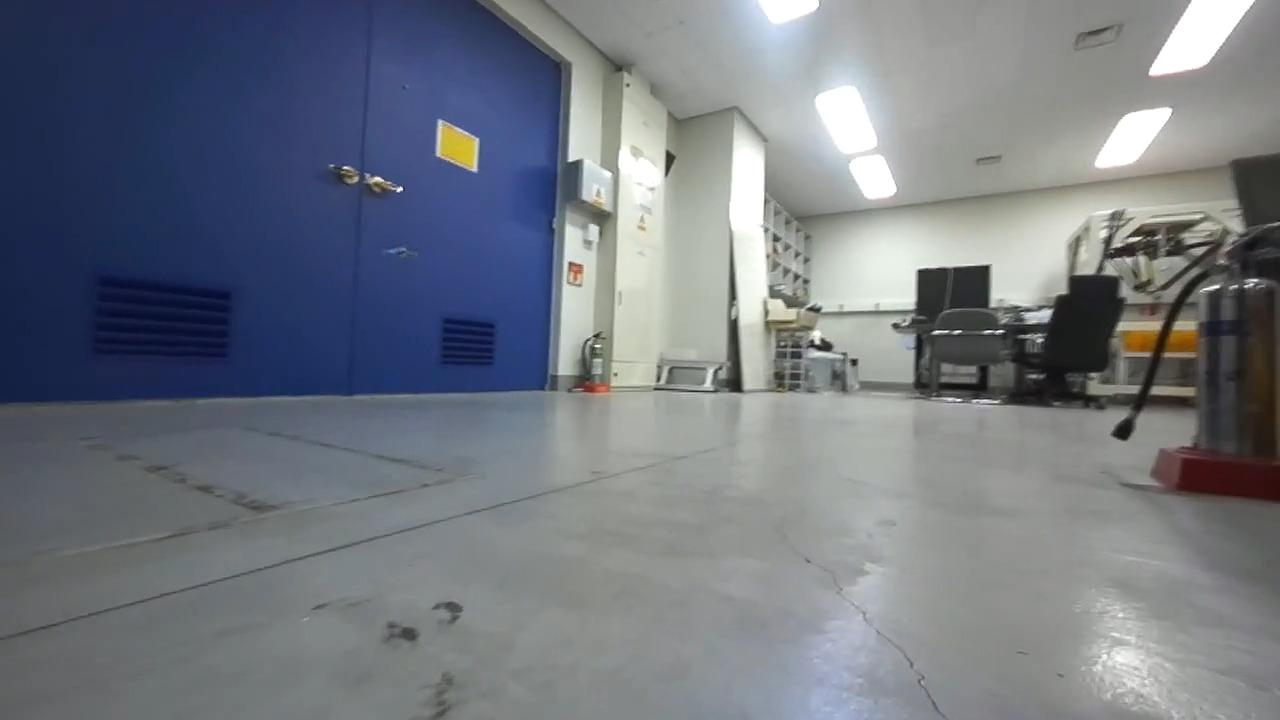crazyflie: (380, 242, 419, 262)
